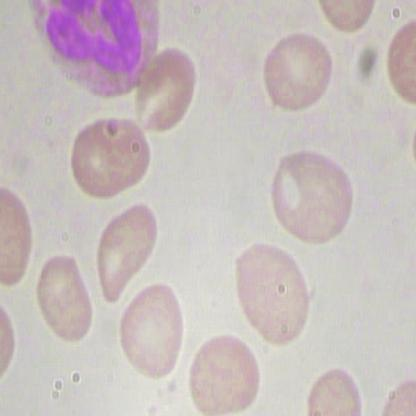RBC: (262, 143, 362, 245), (232, 236, 320, 350), (64, 115, 156, 200), (120, 278, 190, 384), (94, 200, 164, 306), (31, 244, 96, 350), (186, 332, 262, 416), (260, 30, 334, 112), (133, 44, 197, 136), (298, 364, 370, 415)
WBC: (13, 0, 174, 98)
